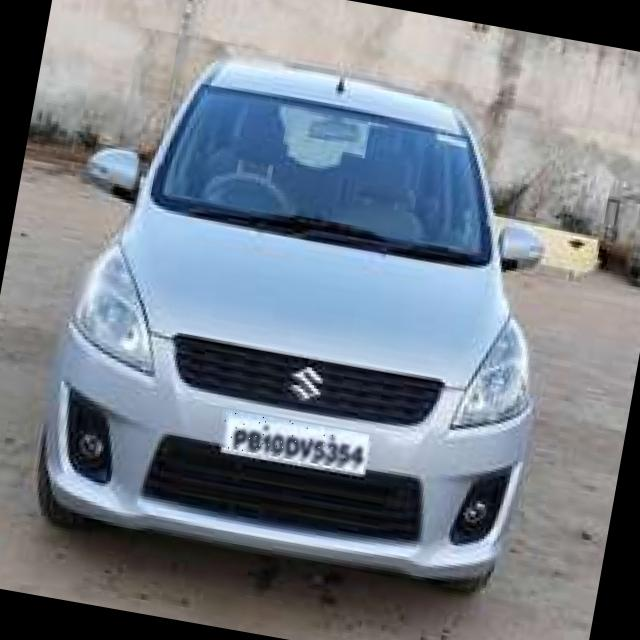Plate: (220, 410, 370, 473)
